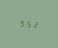five: (25, 19, 30, 28)
nine: (18, 19, 23, 27)
two: (31, 20, 36, 28)
